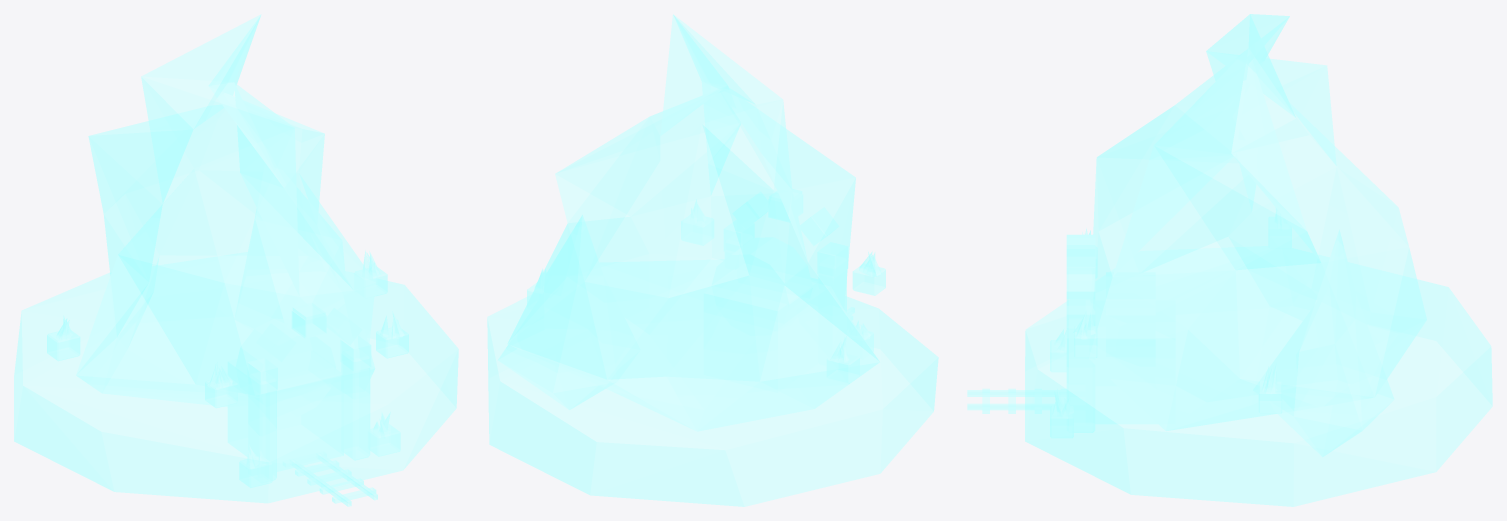
File: GH_Mountain_Sapphire.fbx
3 renders of one model, left to right at view 1: azimuth 30°, elevation 25°; view 2: azimuth 150°, elevation 25°; view 3: azimuth 270°, elevation 25°, orthographic. The views are drawn at different scales.
Visible parts, largest first — view 1: SM_Mountain_Sapphire; view 2: SM_Mountain_Sapphire; view 3: SM_Mountain_Sapphire.
Part boxes in pixels (x1,y1,x2,y2): SM_Mountain_Sapphire: (14, 14, 458, 506); SM_Mountain_Sapphire: (487, 14, 938, 506); SM_Mountain_Sapphire: (967, 14, 1492, 506).
Bounding box in the file's own units: 10.07 × 9.53 × 11.09.
